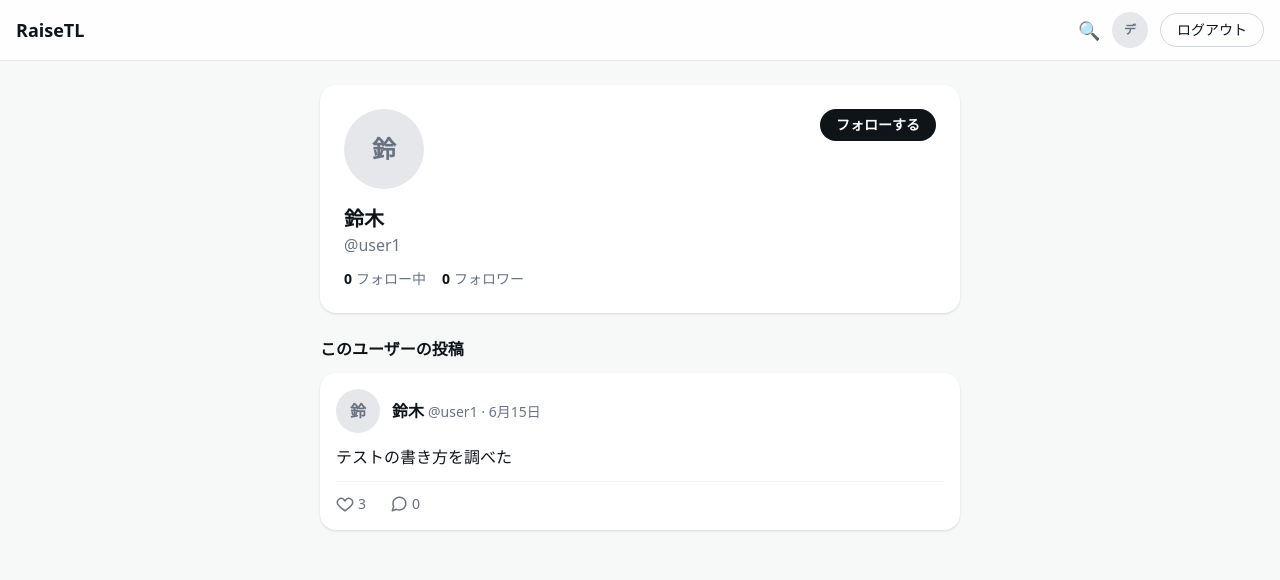
Test case: ProfilePage — いいねに失敗したとき › サーバーが返したエラーメッセージを表示する
Click the button "3" at (351, 504), box [336,494,366,514]
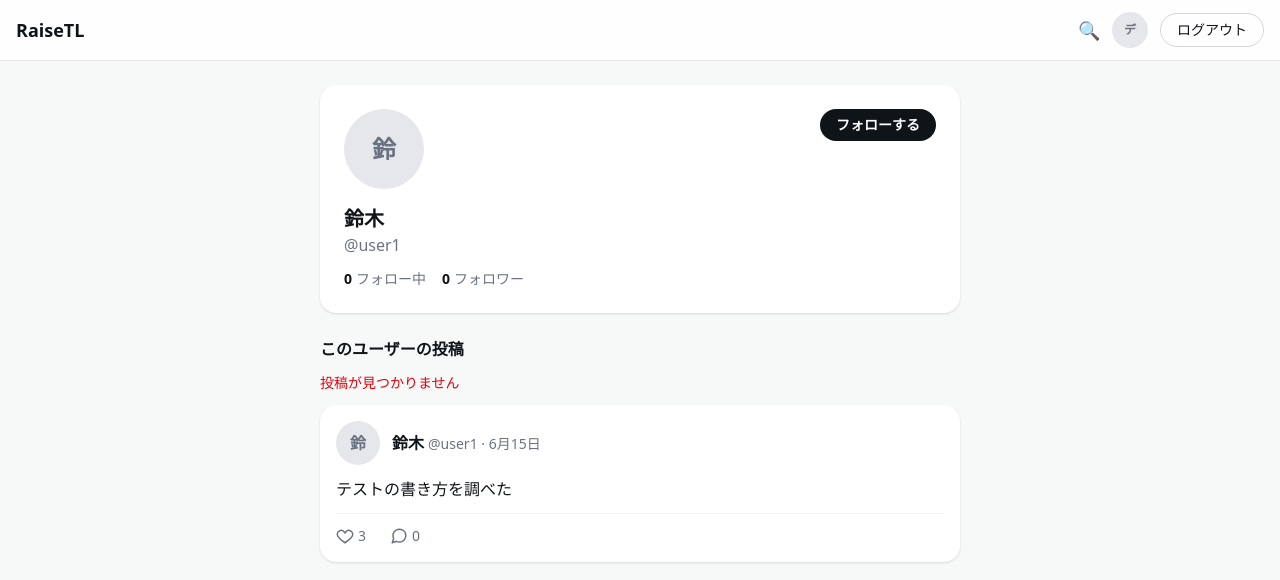
Result: the text "投稿が見つかりません" is shown at [320,373,460,392]
